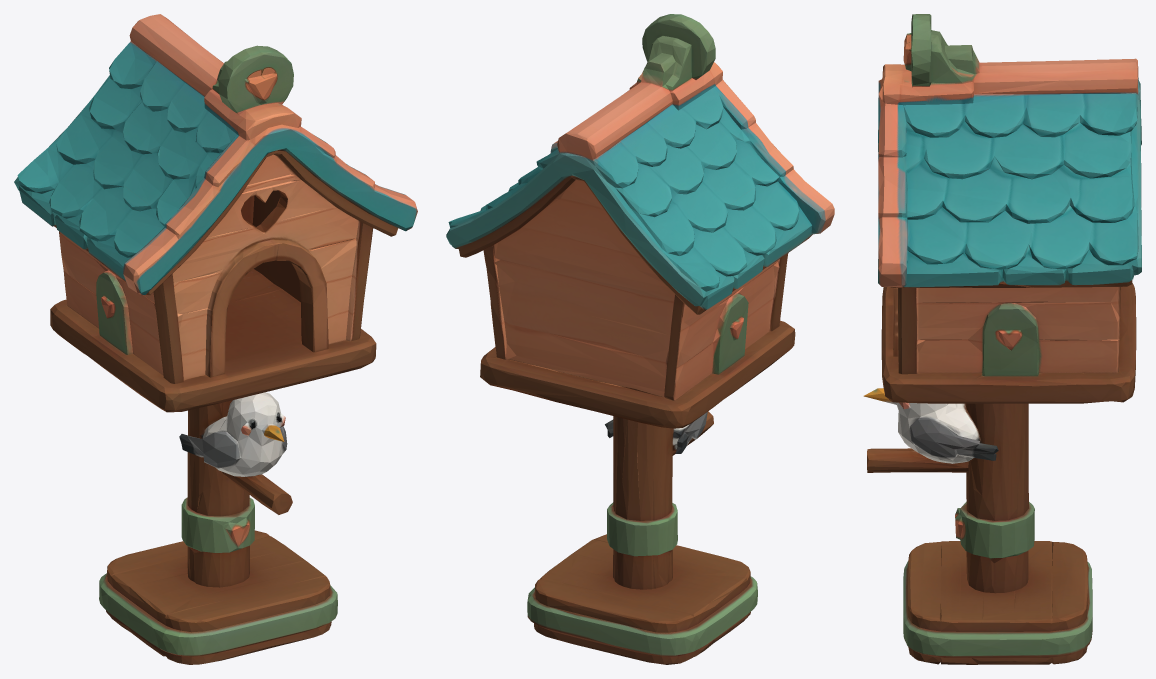
The model's file is deco_birdhouse.glb.
3 views of the same model, side by side, from view 1: azimuth 30°, elevation 25°; view 2: azimuth 150°, elevation 25°; view 3: azimuth 270°, elevation 25° (orthographic). The views are drawn at different scales.
Visible parts, largest first — view 1: world; view 2: world; view 3: world.
Part boxes in pixels (left/top/right/bottom): world: left=14, top=14, right=417, bottom=664; world: left=446, top=14, right=834, bottom=664; world: left=863, top=14, right=1141, bottom=664.
Size of the model in its own units: 0.4989 by 1 by 0.4164.
Materials: 1 (1 with a texture image).
